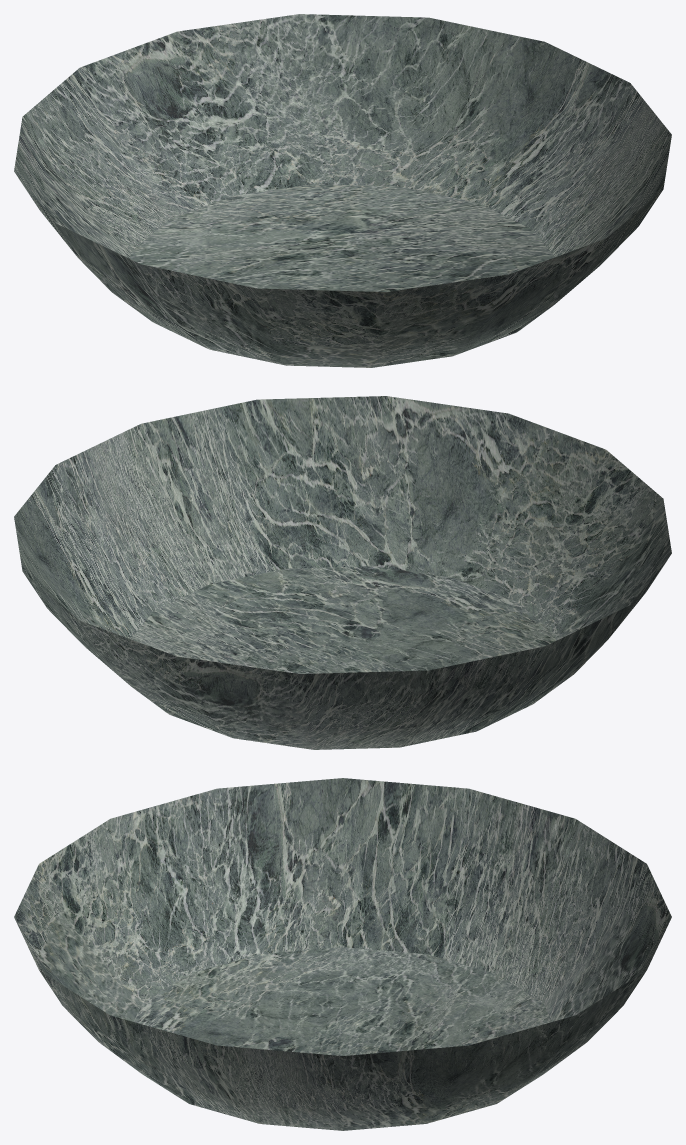
Rendered from micke.fbx.
3 renders of one model, top to bottom at view 1: azimuth 30°, elevation 25°; view 2: azimuth 150°, elevation 25°; view 3: azimuth 270°, elevation 25°, orthographic.
Visible parts, largest first — view 1: чашка.001; view 2: чашка.001; view 3: чашка.001.
Boxes of the visible parts, box(x1,y1,x2,y2) form: чашка.001: box(14, 14, 671, 367); чашка.001: box(14, 396, 671, 749); чашка.001: box(14, 778, 671, 1130).
Bounding box in the file's own units: 0.1726 × 0.0353 × 0.1726.
